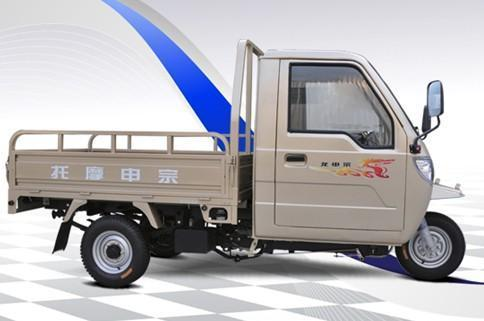tricycle: (25, 25, 466, 297)
